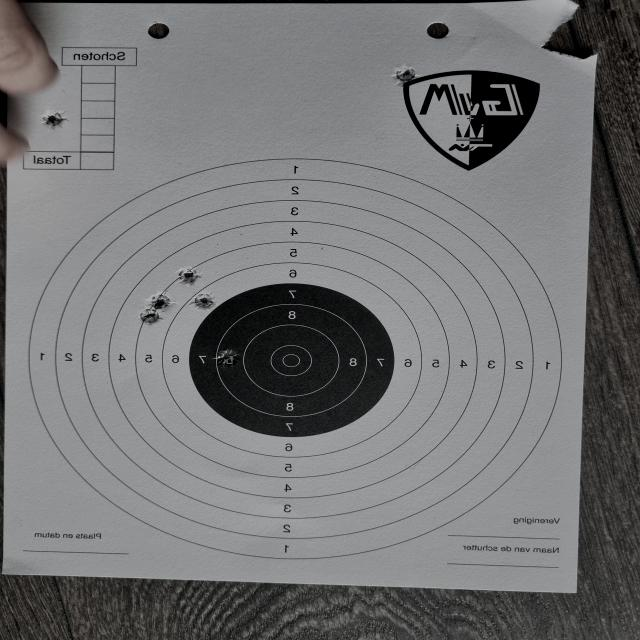0: (391, 62, 422, 85), (42, 108, 68, 134)
5: (175, 263, 204, 285), (134, 308, 165, 326), (145, 293, 171, 313)
6: (190, 293, 217, 311)
8: (215, 348, 239, 365)
Target: (27, 154, 560, 560)
black_contour: (189, 282, 395, 438)
